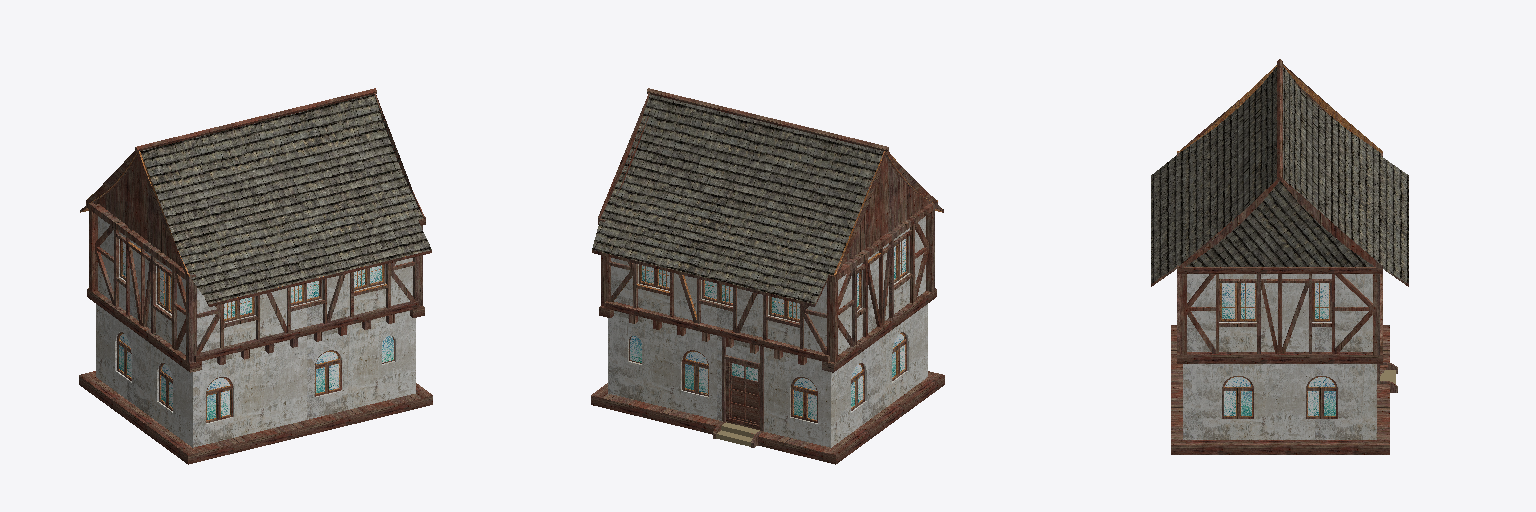
3 views of the same model, side by side, from view 1: azimuth 30°, elevation 25°; view 2: azimuth 150°, elevation 25°; view 3: azimuth 270°, elevation 25° (orthographic).
Visible parts, largest first — view 1: Mesh410 Group266 Group1 Model, Mesh30 Group30 Group1 Model, Mesh16 Group16 Group1 Model, Mesh8 Group8 Group1 Model, Mesh255 Group167 Group1 Model, Mesh21 Group21 Group1 Model, Mesh157 Group102 Group1 Model, Mesh61 Group52 Group1 Model, Mesh23 Group23 Group1 Model, Mesh412 Group268 Group1 Model, Mesh29 Group29 Group1 Model, Mesh10 Group10 Group1 Model (+1 smaller); view 2: Mesh410 Group266 Group1 Model, Mesh30 Group30 Group1 Model, Mesh16 Group16 Group1 Model, Mesh8 Group8 Group1 Model, Mesh255 Group167 Group1 Model, Mesh32 Group32 Group1 Model, Mesh157 Group102 Group1 Model, Mesh61 Group52 Group1 Model, Mesh23 Group23 Group1 Model, Mesh412 Group268 Group1 Model, Mesh10 Group10 Group1 Model, Mesh417 Group273 Group1 Model (+2 smaller); view 3: Mesh410 Group266 Group1 Model, Mesh30 Group30 Group1 Model, Mesh16 Group16 Group1 Model, Mesh8 Group8 Group1 Model, Mesh285 Group191 Group1 Model, Mesh414 Group270 Group1 Model, Mesh213 Group143 Group1 Model, Mesh412 Group268 Group1 Model, Mesh61 Group52 Group1 Model, Mesh240 Group155 Group1 Model, Mesh272 Group178 Group1 Model.
Part boxes in pixels (x1,y1,x2,y2): Mesh410 Group266 Group1 Model: (140, 94, 431, 303); Mesh30 Group30 Group1 Model: (96, 304, 415, 447); Mesh16 Group16 Group1 Model: (98, 216, 412, 354); Mesh8 Group8 Group1 Model: (79, 371, 432, 464); Mesh255 Group167 Group1 Model: (94, 156, 182, 267); Mesh21 Group21 Group1 Model: (194, 301, 418, 362); Mesh157 Group102 Group1 Model: (87, 288, 201, 372); Mesh61 Group52 Group1 Model: (135, 88, 376, 151); Mesh23 Group23 Group1 Model: (86, 202, 195, 282); Mesh412 Group268 Group1 Model: (86, 151, 189, 276); Mesh29 Group29 Group1 Model: (186, 281, 196, 362); Mesh10 Group10 Group1 Model: (89, 210, 97, 291); Mesh410 Group266 Group1 Model: (592, 94, 943, 303); Mesh30 Group30 Group1 Model: (608, 304, 927, 447); Mesh16 Group16 Group1 Model: (611, 216, 925, 354); Mesh8 Group8 Group1 Model: (591, 371, 944, 464); Mesh255 Group167 Group1 Model: (843, 156, 929, 263); Mesh32 Group32 Group1 Model: (605, 301, 829, 362); Mesh157 Group102 Group1 Model: (822, 288, 936, 372); Mesh61 Group52 Group1 Model: (647, 88, 888, 151); Mesh23 Group23 Group1 Model: (828, 202, 937, 282); Mesh412 Group268 Group1 Model: (834, 151, 937, 276); Mesh10 Group10 Group1 Model: (827, 281, 837, 362); Mesh417 Group273 Group1 Model: (592, 250, 827, 306); Mesh410 Group266 Group1 Model: (1151, 67, 1408, 283); Mesh30 Group30 Group1 Model: (1183, 364, 1376, 439); Mesh16 Group16 Group1 Model: (1187, 274, 1372, 351); Mesh8 Group8 Group1 Model: (1171, 325, 1389, 454); Mesh285 Group191 Group1 Model: (1177, 352, 1382, 363); Mesh414 Group270 Group1 Model: (1177, 179, 1382, 267); Mesh213 Group143 Group1 Model: (1177, 265, 1382, 273); Mesh412 Group268 Group1 Model: (1177, 64, 1382, 152); Mesh61 Group52 Group1 Model: (1277, 59, 1282, 180); Mesh240 Group155 Group1 Model: (1180, 274, 1186, 354); Mesh272 Group178 Group1 Model: (1373, 274, 1379, 354).
Bounding box in the file's own units: 8.8 × 9.5 × 8.02.
6 materials, 5 textured.